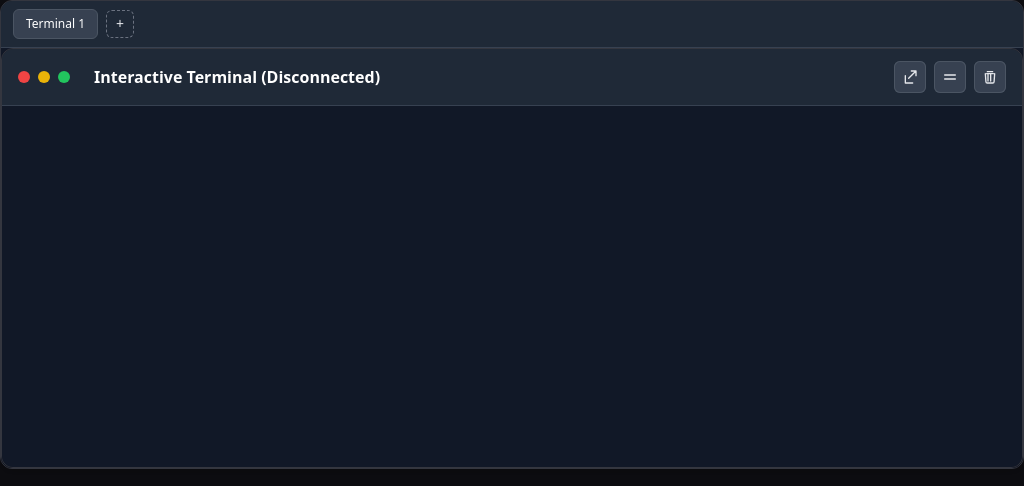
Terminal › adds a new terminal tab when + clicked
Expected: the tab "Terminal 1" is shown, [13,9,98,39]
Click the button named "new terminal". click: (120, 24)
box: [106,10,134,38]
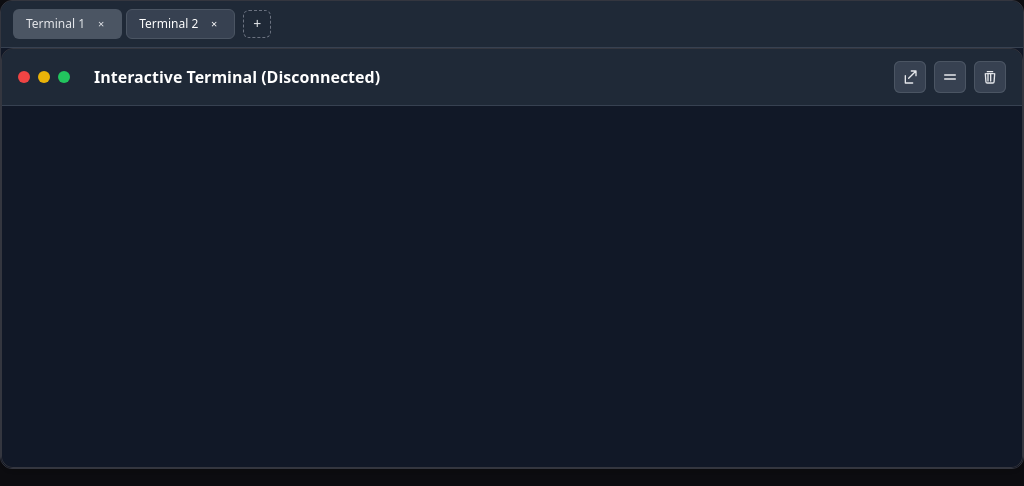
Expected: the tab "Terminal 2 ×" is shown, [126,9,235,39]
